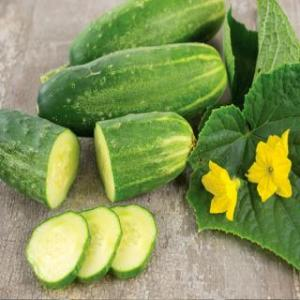cucumber: (34, 42, 226, 134), (68, 2, 224, 68), (92, 112, 196, 202), (1, 110, 80, 210)
